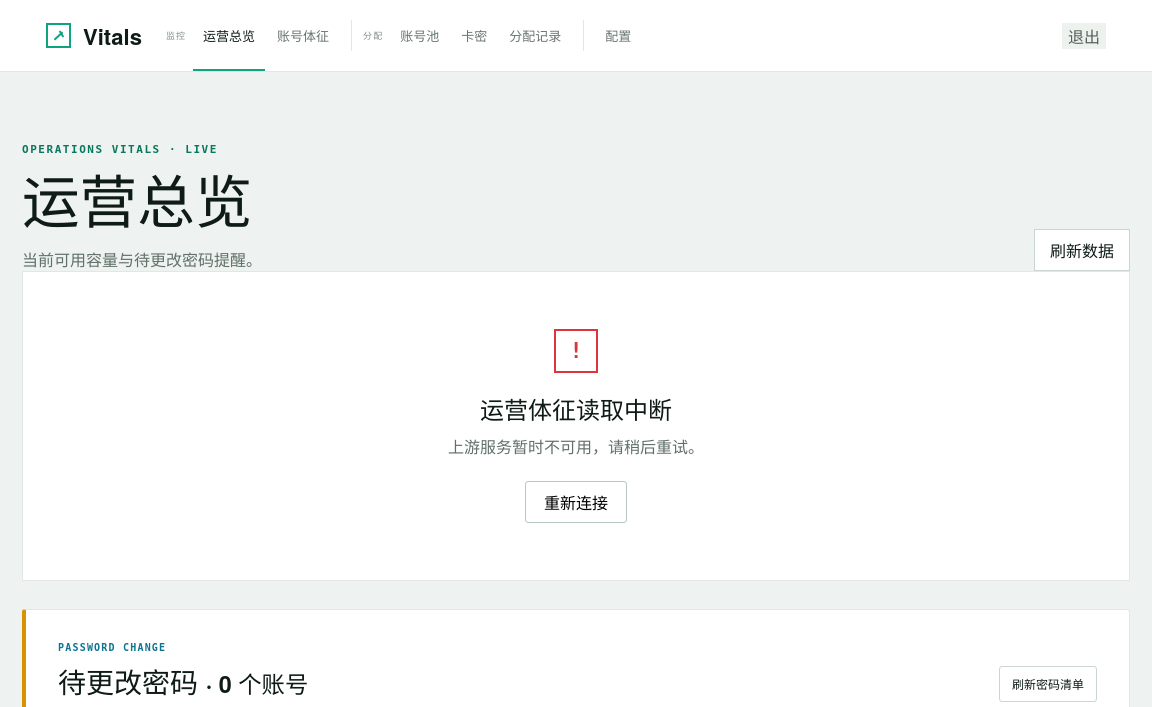
Scenario: Unified dashboard › shows a recovery status after a failed aggregate request succeeds
Click the button "重新连接": (576, 502) [525, 481, 627, 523]
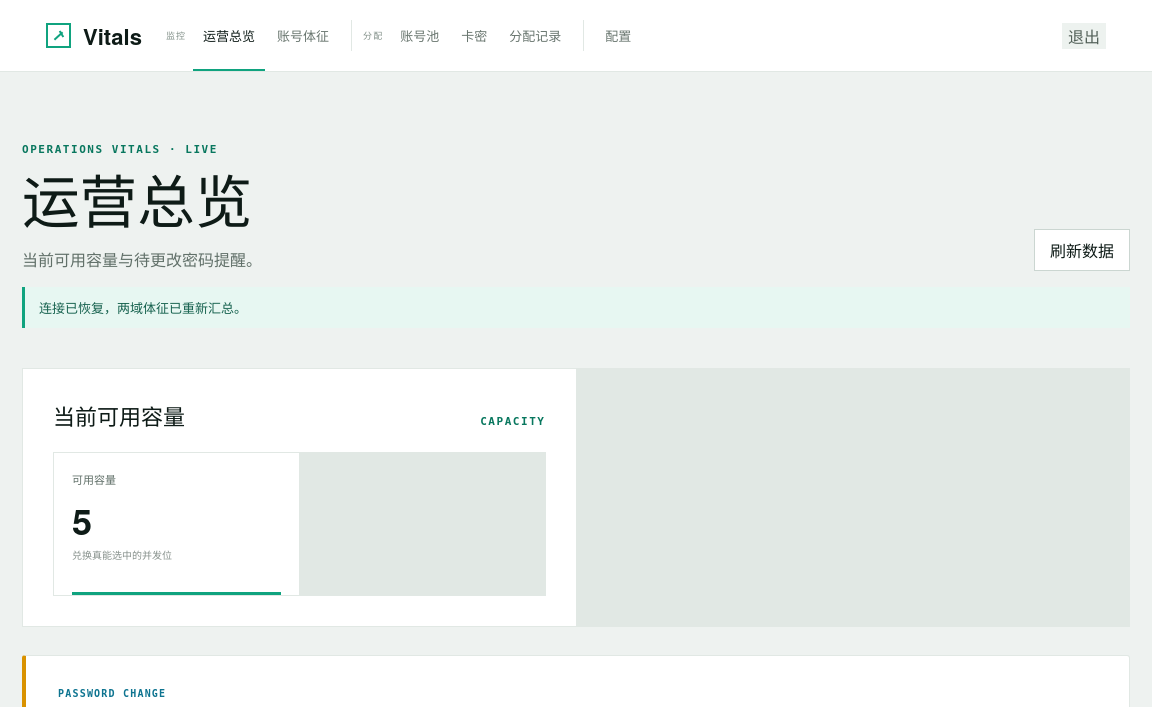
Check: the text "连接已恢复" is shown, box [39, 299, 247, 317]
